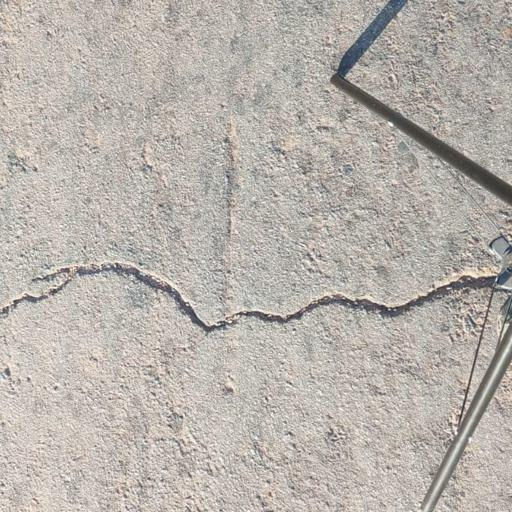GRIETA: (0, 262, 494, 331), (224, 115, 239, 305)
